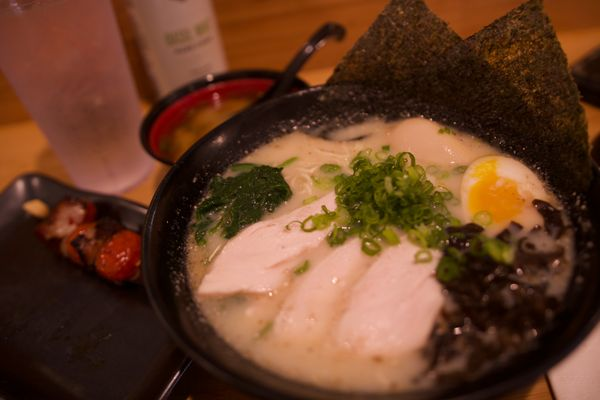curry: (328, 148, 460, 254), (192, 162, 292, 241)
salad: (137, 20, 347, 166)
sushi: (141, 8, 597, 395)
